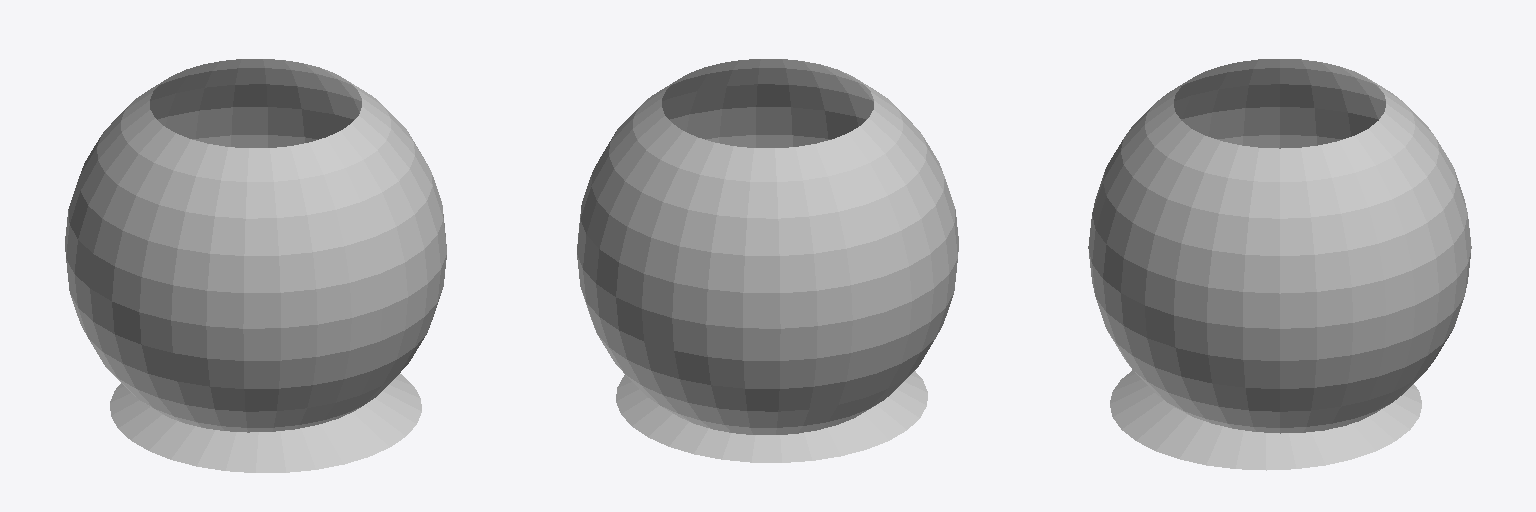
Rendered from bowl3.obj.
3 views of the same model, side by side, from view 1: azimuth 30°, elevation 25°; view 2: azimuth 150°, elevation 25°; view 3: azimuth 270°, elevation 25° (orthographic).
Visible parts, largest first — view 1: Sphere, Cone; view 2: Sphere, Cone; view 3: Sphere, Cone.
Boxes of the visible parts, box(x1,y1,x2,y2) form: Sphere: box(65, 59, 446, 432); Cone: box(110, 374, 421, 472); Sphere: box(577, 59, 958, 434); Cone: box(616, 371, 927, 462); Sphere: box(1088, 59, 1471, 433); Cone: box(1110, 370, 1421, 470).
Size of the model in its own units: 13.21 by 11.6 by 13.21.